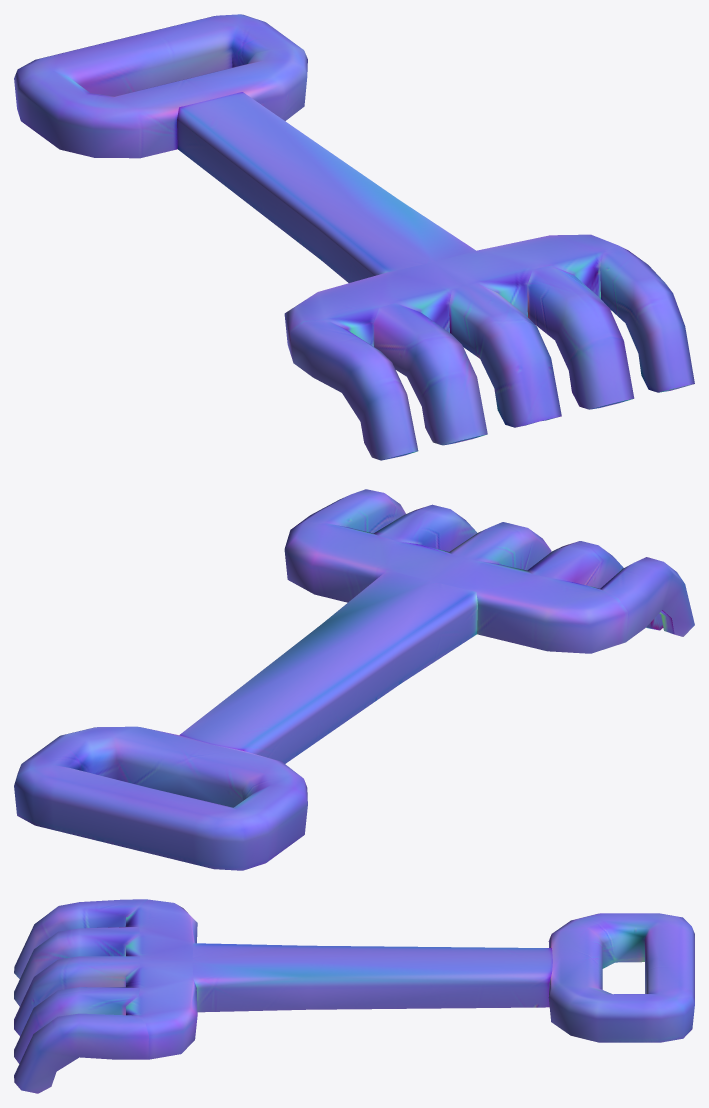
The model's file is Rake.fbx.
3 renders of one model, top to bottom at view 1: azimuth 30°, elevation 25°; view 2: azimuth 150°, elevation 25°; view 3: azimuth 270°, elevation 25°, orthographic. The views are drawn at different scales.
Parts seen in each view (by area): view 1: Rake_01; view 2: Rake_01; view 3: Rake_01.
Boxes of the visible parts, <box> form: Rake_01: <box>14,14,694,460</box>; Rake_01: <box>14,489,694,870</box>; Rake_01: <box>14,899,694,1093</box>.
Size of the model in its own units: 0.2371 by 0.51 by 0.0616.
1 material, 1 textured.
